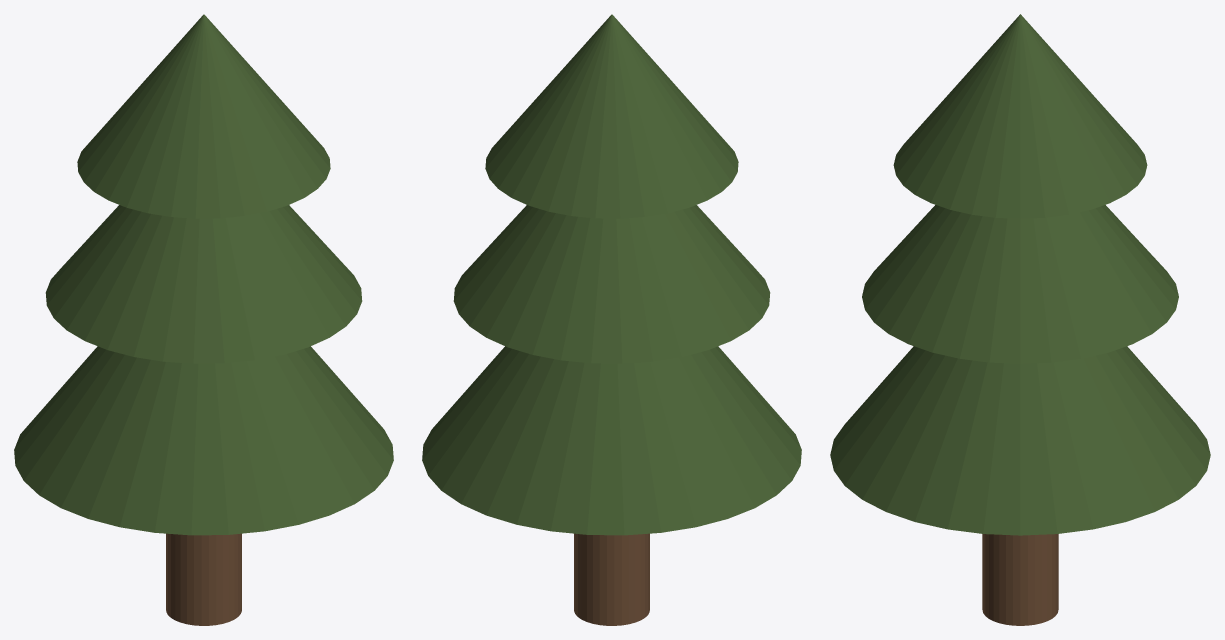
File: tree3.obj
The picture shows the model from 3 angles, left to right: view 1: azimuth 30°, elevation 25°; view 2: azimuth 150°, elevation 25°; view 3: azimuth 270°, elevation 25°; orthographic projection.
Parts seen in each view (by area): view 1: Cone.002, Cone.001, Cone, Cylinder; view 2: Cone.002, Cone.001, Cone, Cylinder; view 3: Cone.002, Cone.001, Cone, Cylinder.
Boxes of the visible parts, x1,y1,x2,y2 form: Cone.002: (14, 346, 393, 535); Cone.001: (45, 205, 362, 363); Cone: (77, 14, 330, 218); Cylinder: (166, 533, 241, 625); Cone.002: (422, 346, 801, 535); Cone.001: (453, 205, 770, 363); Cone: (485, 14, 738, 218); Cylinder: (574, 533, 649, 625); Cone.002: (830, 346, 1210, 535); Cone.001: (862, 205, 1178, 363); Cone: (893, 14, 1147, 218); Cylinder: (982, 534, 1058, 625).
Bounding box in the file's own units: 6 × 10.37 × 6.
4 materials, 4 textured.
